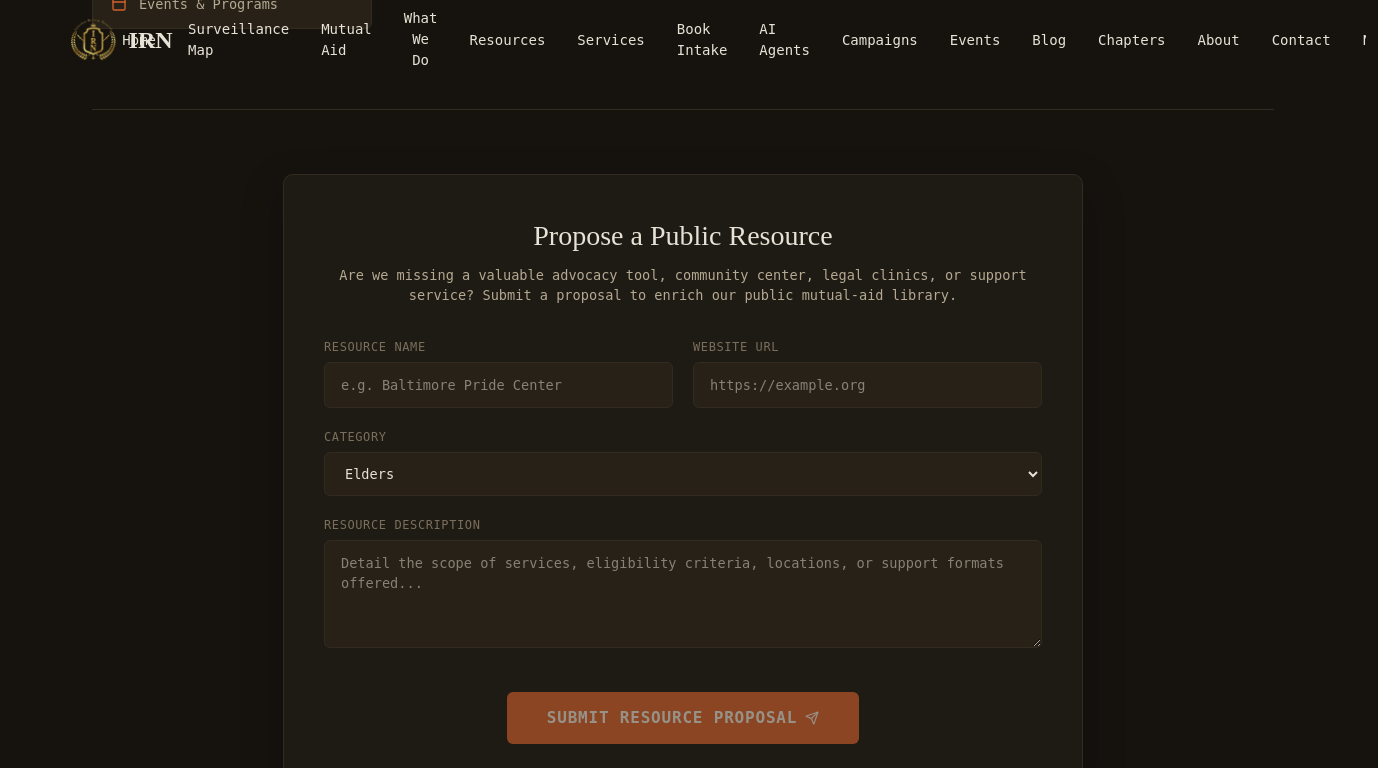
ResourcesPage › submits a resource proposal and displays success toast feedback
This screenshot has width=1378, height=768.
(page scrolled)
In the field labelled "Resource Name": (498, 385) [324,362,673,408], type "Test Pride Coalition"
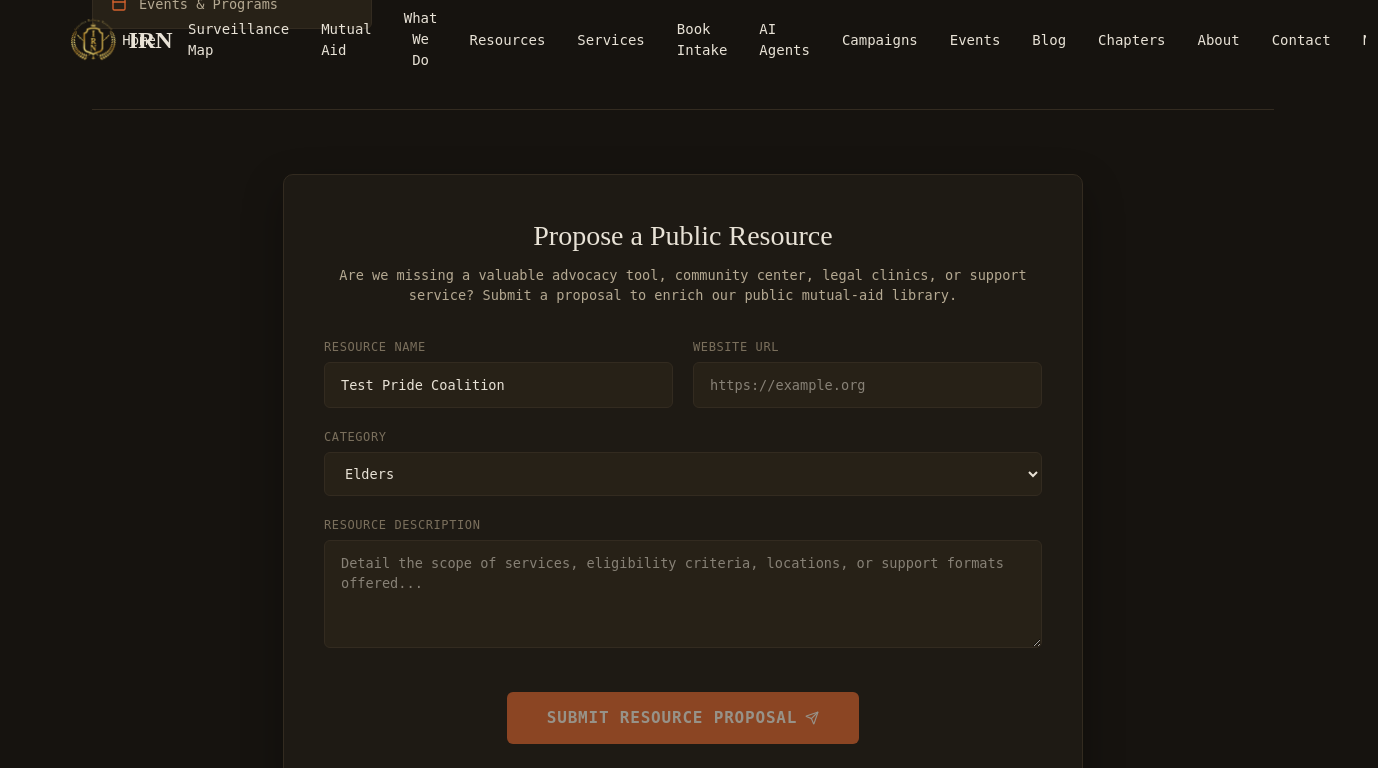
In the field labelled "Website URL": (868, 385) [693,362,1042,408], type "https://testpride.org"
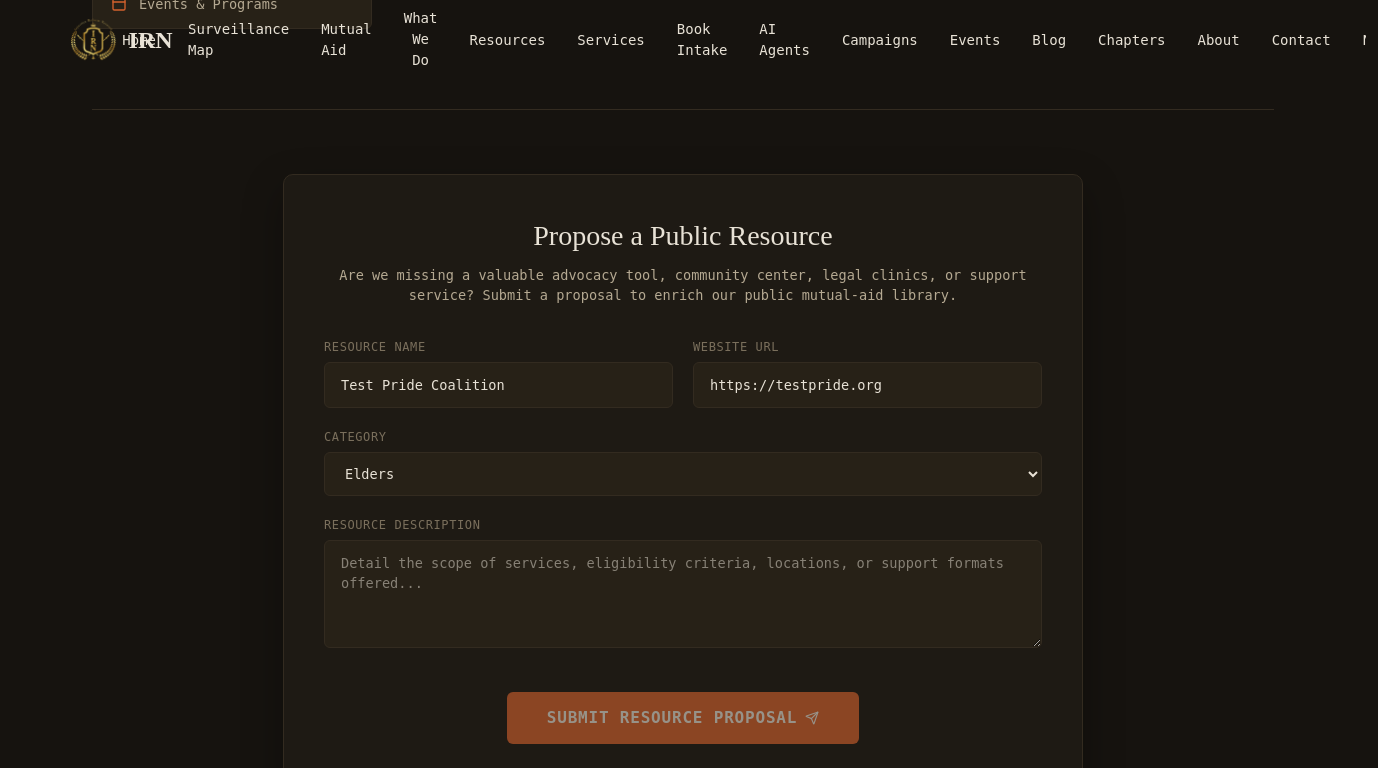
Replace the text in the text box labelled "Resource Description" with "An inclusive support network for queer community members.": (683, 594) [324,540,1042,648]
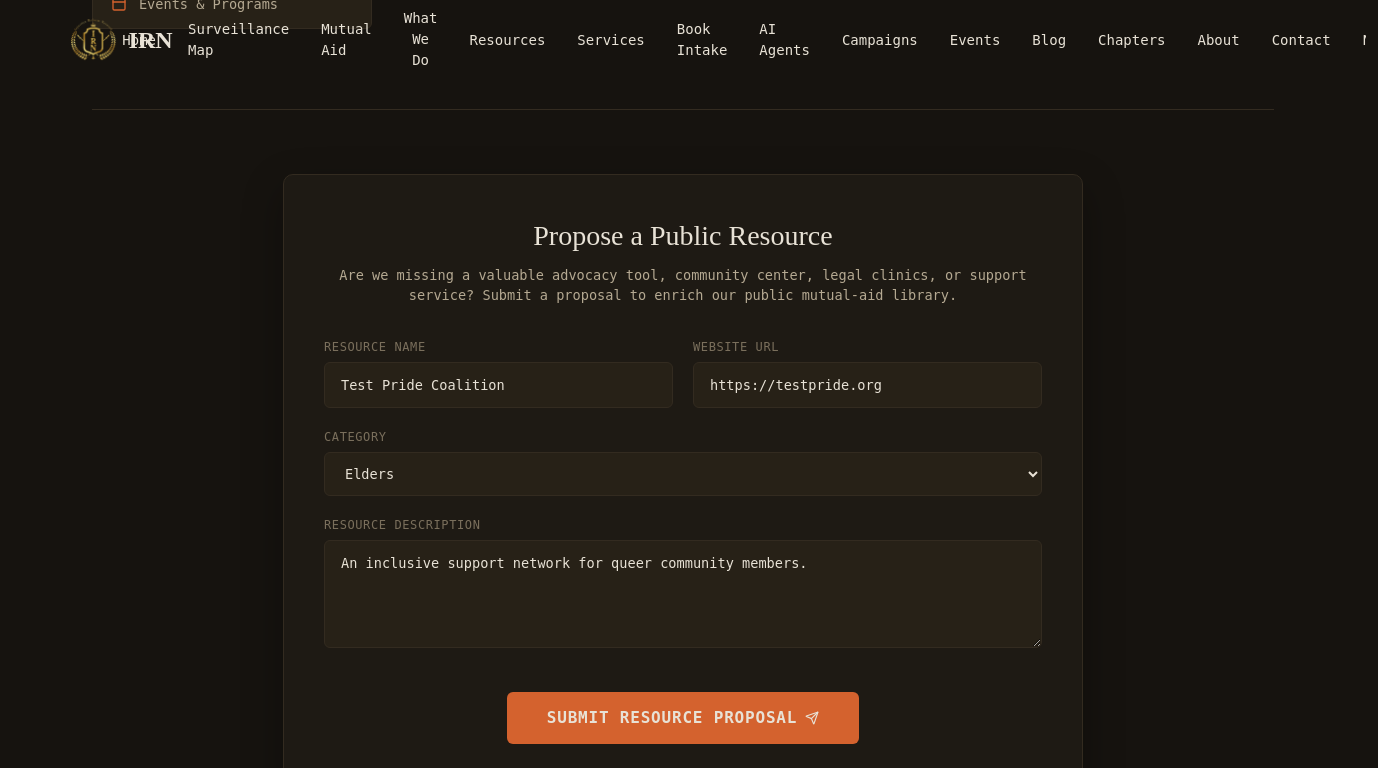
# Submit form
Submit the form, box [324,338,1042,744]
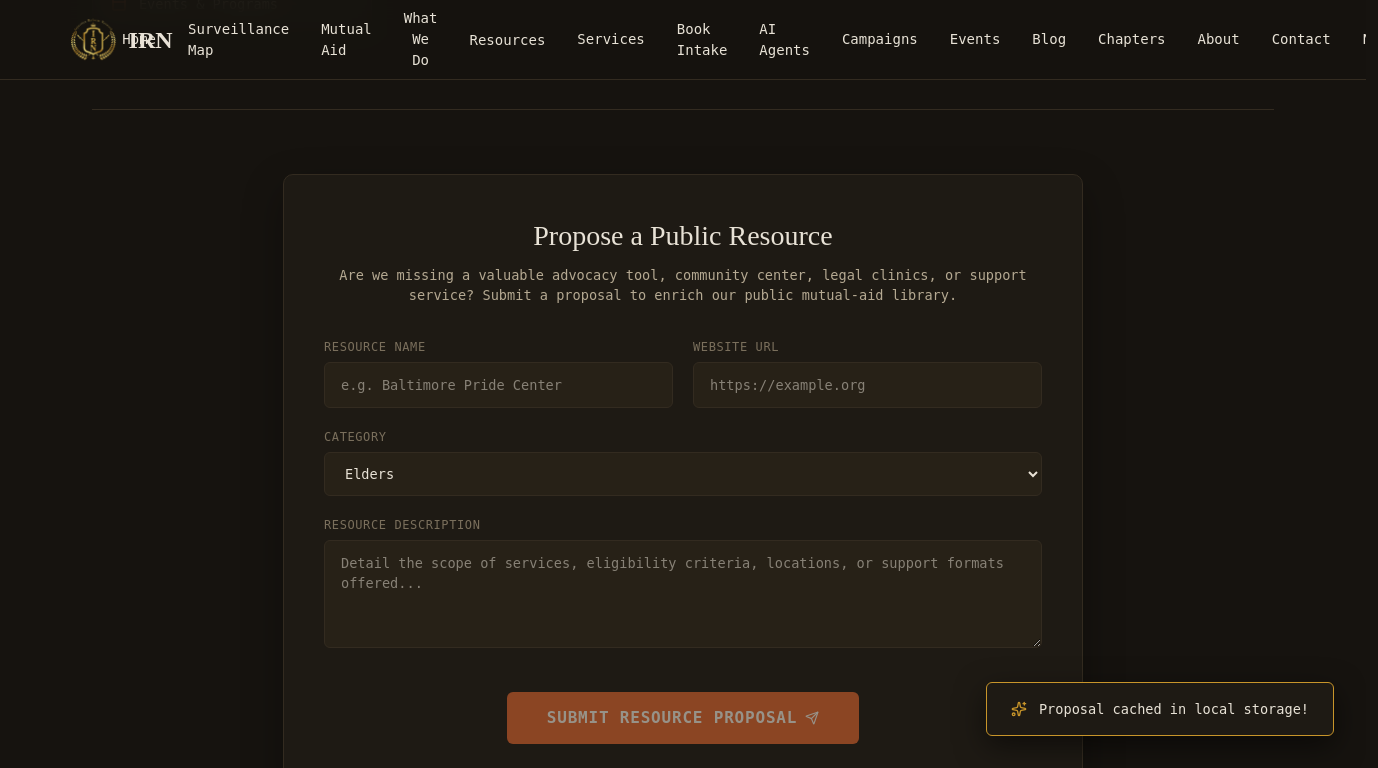
Expected: the text "Proposal cached in local storage!" is shown, [1039,699,1309,719]
